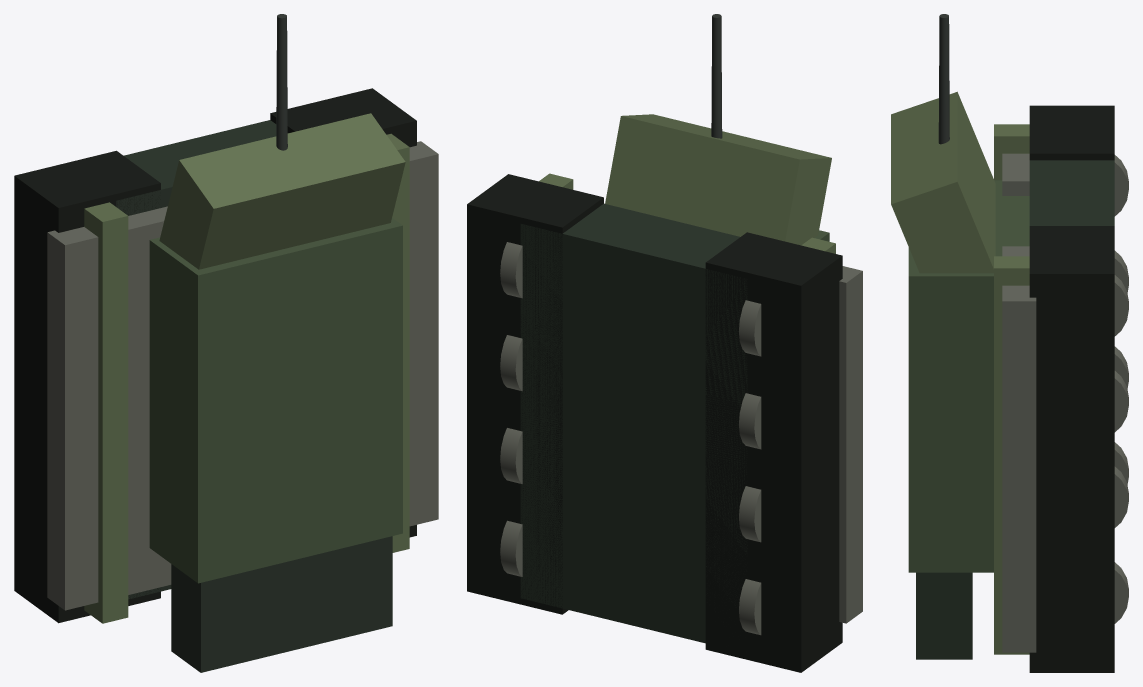
The picture shows the model from 3 angles, left to right: view 1: azimuth 30°, elevation 25°; view 2: azimuth 150°, elevation 25°; view 3: azimuth 270°, elevation 25°; orthographic projection. The views are drawn at different scales.
Visible parts, largest first — view 1: tiny_riveted_casemate, left_track_guard, sloped_tks_nose, left_track_rubber, rear_engine_box, left_tiny_fender, right_track_guard, tiny_track_base, right_track_rubber, right_tiny_fender, fk_a_20mm_tube; view 2: tiny_track_base, left_track_rubber, right_track_rubber, sloped_tks_nose, left_track_guard, fk_a_20mm_tube, left_roadwheel_3, left_roadwheel_2, left_roadwheel_0, left_roadwheel_1, right_roadwheel_0, right_roadwheel_3 (+2 smaller); view 3: right_track_rubber, tiny_riveted_casemate, sloped_tks_nose, right_track_guard, tiny_track_base, rear_engine_box, left_track_rubber, right_tiny_fender, fk_a_20mm_tube, left_tiny_fender, left_track_guard, left_roadwheel_3 (+7 smaller).
Part boxes in pixels (x1=…): tiny_riveted_casemate: x1=149, y1=218, x2=402, y2=583; left_track_guard: x1=47, y1=206, x2=171, y2=610; sloped_tks_nose: x1=159, y1=113, x2=405, y2=269; left_track_rubber: x1=14, y1=150, x2=160, y2=623; rear_engine_box: x1=171, y1=536, x2=392, y2=672; left_tiny_fender: x1=84, y1=202, x2=128, y2=623; right_track_guard: x1=409, y1=141, x2=438, y2=526; tiny_track_base: x1=116, y1=120, x2=287, y2=599; right_track_rubber: x1=270, y1=88, x2=416, y2=537; right_tiny_fender: x1=386, y1=133, x2=409, y2=552; fk_a_20mm_tube: x1=276, y1=14, x2=287, y2=150; tiny_track_base: x1=520, y1=203, x2=747, y2=643; left_track_rubber: x1=705, y1=232, x2=842, y2=672; right_track_rubber: x1=467, y1=174, x2=603, y2=614; sloped_tks_nose: x1=605, y1=114, x2=831, y2=245; left_track_guard: x1=839, y1=266, x2=862, y2=623; fk_a_20mm_tube: x1=711, y1=14, x2=722, y2=138; left_roadwheel_3: x1=739, y1=300, x2=761, y2=356; left_roadwheel_2: x1=739, y1=393, x2=761, y2=449; left_roadwheel_0: x1=739, y1=579, x2=761, y2=635; left_roadwheel_1: x1=739, y1=486, x2=761, y2=542; right_roadwheel_0: x1=500, y1=520, x2=522, y2=576; right_roadwheel_3: x1=500, y1=242, x2=522, y2=298; right_track_rubber: x1=1029, y1=226, x2=1114, y2=672; tiny_riveted_casemate: x1=908, y1=180, x2=1029, y2=572; sloped_tks_nose: x1=891, y1=91, x2=995, y2=273; right_track_guard: x1=1002, y1=246, x2=1036, y2=652; tiny_track_base: x1=1029, y1=160, x2=1114, y2=225; rear_engine_box: x1=916, y1=572, x2=972, y2=659; left_track_rubber: x1=1029, y1=105, x2=1114, y2=160; right_tiny_fender: x1=994, y1=256, x2=1029, y2=654; fk_a_20mm_tube: x1=938, y1=14, x2=949, y2=144; left_tiny_fender: x1=994, y1=124, x2=1029, y2=180; left_track_guard: x1=1002, y1=153, x2=1029, y2=195; left_roadwheel_3: x1=1114, y1=155, x2=1128, y2=216.
Bounding box in the file's own units: 29.2 × 46.5 × 16.75.
